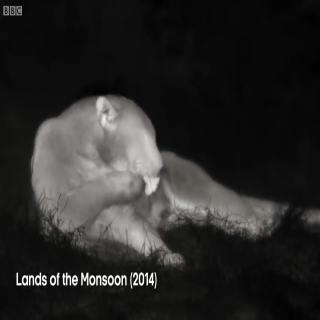Leopard: (25, 81, 306, 252)
